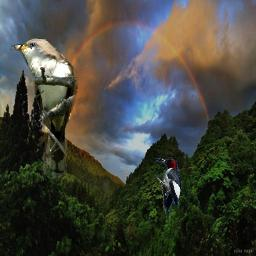Cuckoo: (10, 38, 78, 179)
Woodpecker: (156, 158, 181, 222)
